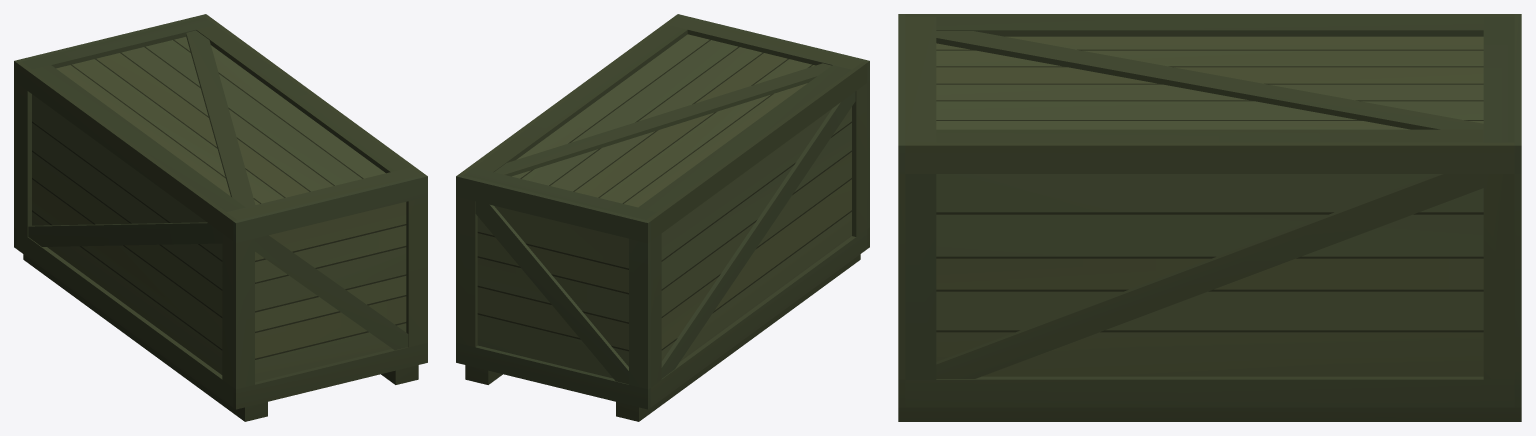
File: crate.wood_long.military.glb
3 views of the same model, side by side, from view 1: azimuth 30°, elevation 25°; view 2: azimuth 150°, elevation 25°; view 3: azimuth 270°, elevation 25° (orthographic). The views are drawn at different scales.
Parts seen in each view (by area): view 1: crate_wood_long_military; view 2: crate_wood_long_military; view 3: crate_wood_long_military.
Part boxes in pixels (left/top/right/bottom): crate_wood_long_military: left=14, top=14, right=427, bottom=421; crate_wood_long_military: left=456, top=14, right=869, bottom=421; crate_wood_long_military: left=898, top=14, right=1521, bottom=421.
Size of what is drawn, in the model's own units: 1.1 by 1.1 by 2.2.
